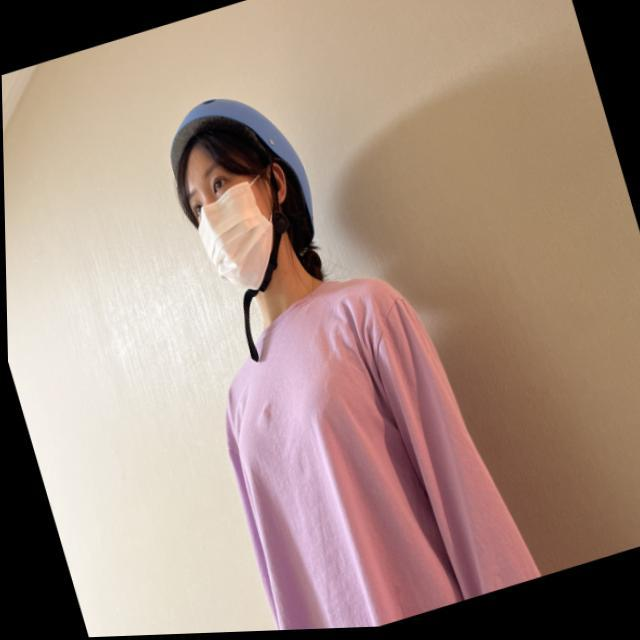Helmet: (158, 86, 342, 303)
